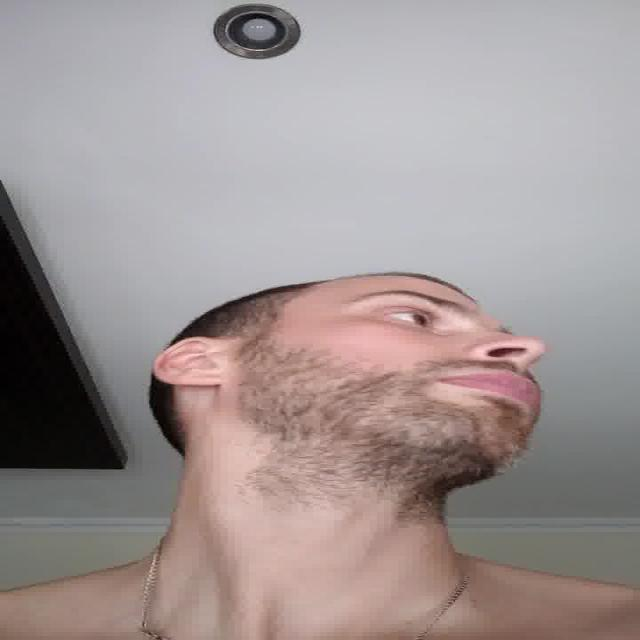earlobe: (172, 375, 224, 387)
eye: (379, 309, 442, 329)
nose: (477, 350, 538, 379)
wholeear: (155, 338, 226, 386)
